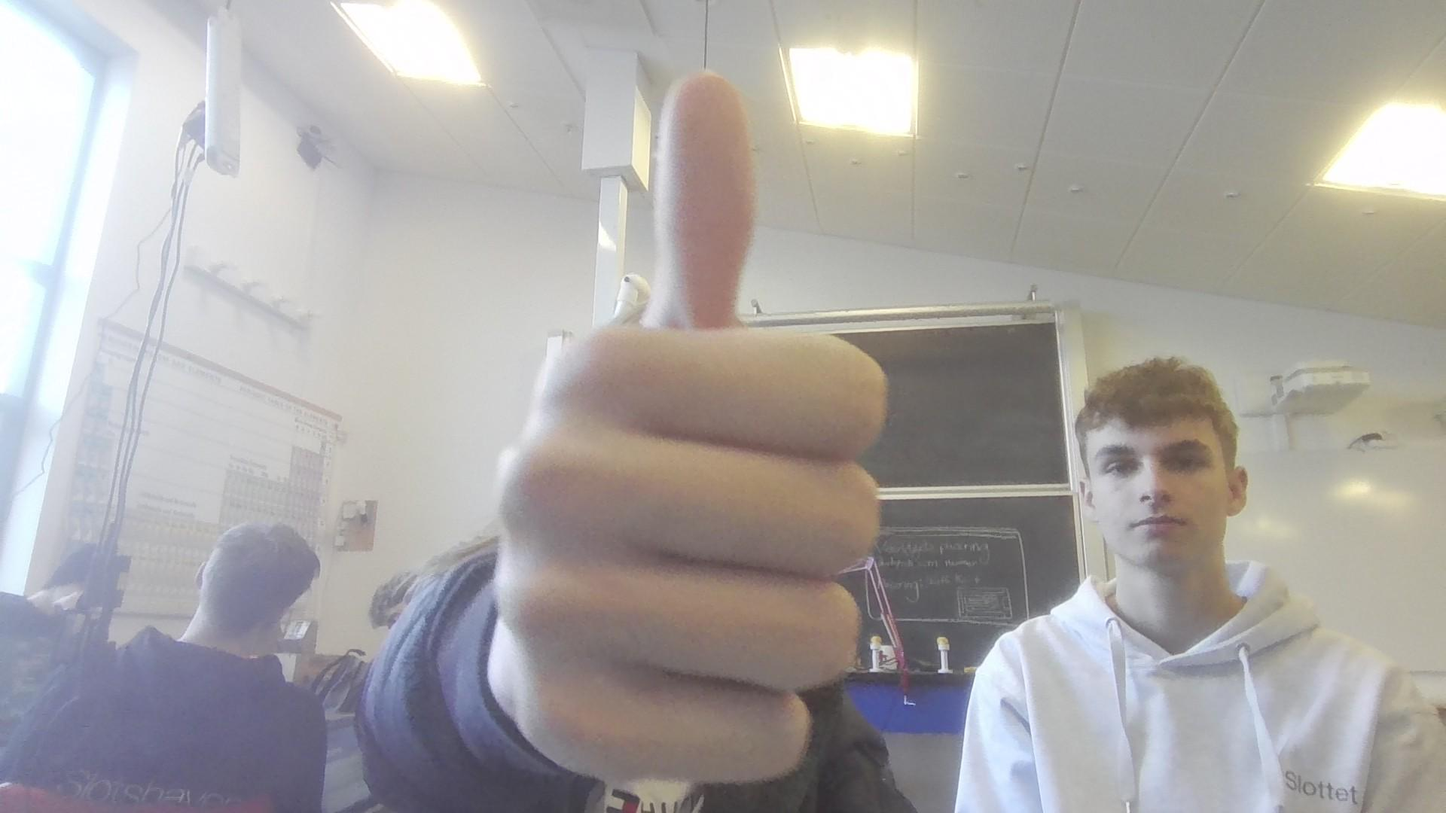thumbs up: (459, 72, 896, 790)
